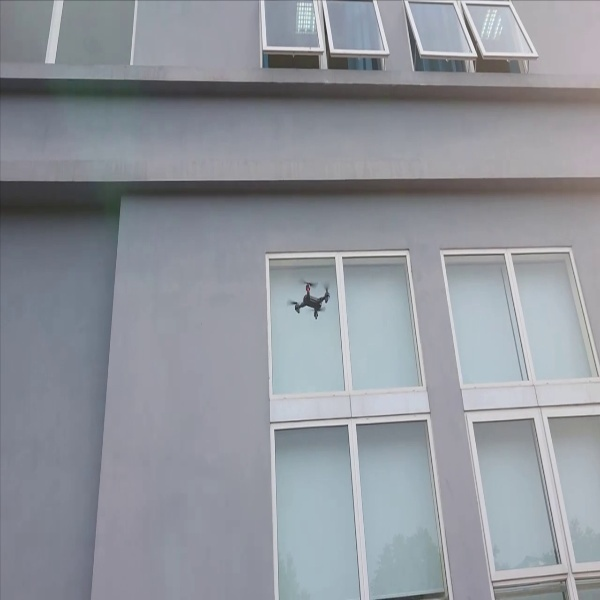drone: (282, 272, 336, 323)
